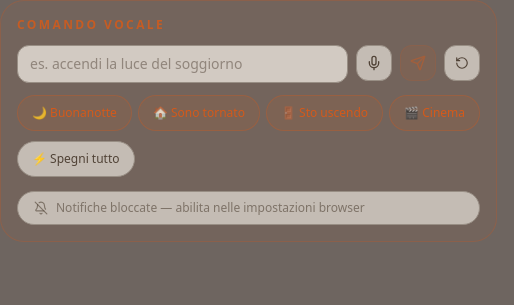
Scenario: NLCommandBar — flusso voce › 5 — mostra errore e non invia fetch se il blob è vuoto (nessun chunk)
Click the button named "Avvia registrazione vocale". click: (374, 63)
box: [356,45,392,81]
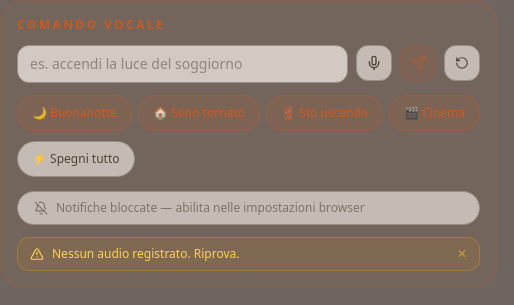
Expected: the text "Nessun audio registrato. Riprova." is shown, [52,246,240,262]
